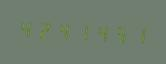five: (107, 21, 124, 46)
four: (17, 16, 34, 41), (53, 18, 70, 43), (89, 20, 106, 45)
one: (71, 19, 88, 44), (125, 22, 142, 47)
two: (35, 17, 52, 42)
